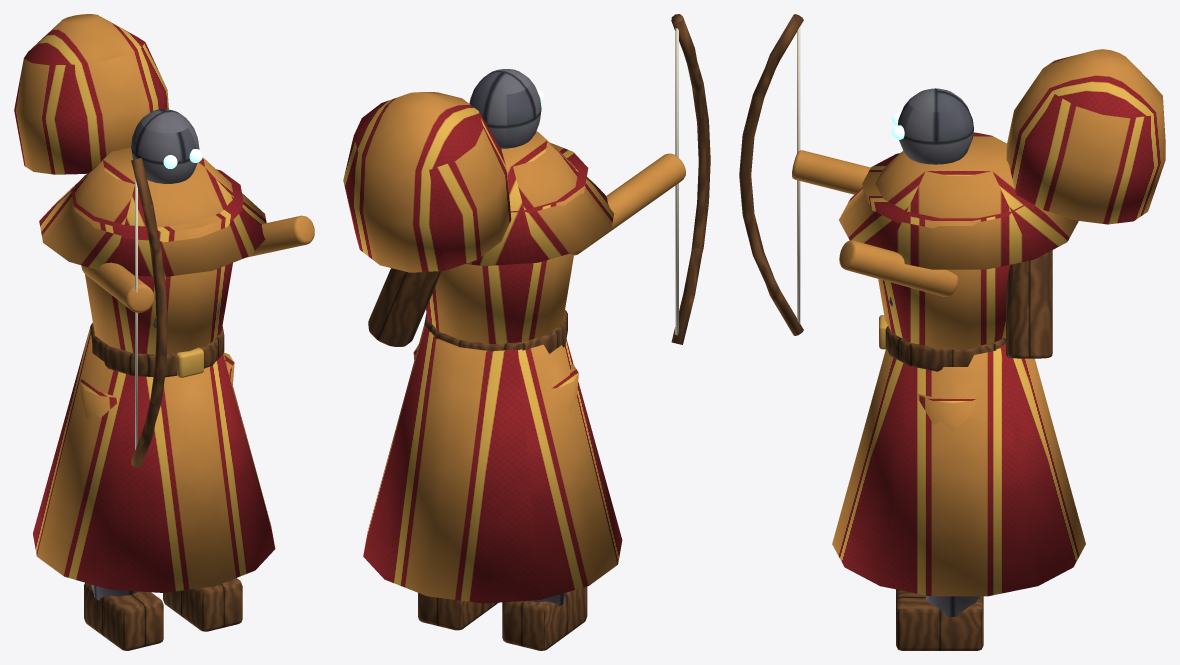
The model's file is bone_archer.glb.
3 renders of one model, left to right at view 1: azimuth 30°, elevation 25°; view 2: azimuth 150°, elevation 25°; view 3: azimuth 270°, elevation 25°, orthographic. The views are drawn at different scales.
Parts seen in each view (by area): view 1: CloakSkirt, DeepHood, ShoulderCapelet, CloakTorso, Boot, SkullFace, HeldBow, Boot.001, RangerBelt, BowArm, DrawArm, Thigh (+2 smaller); view 2: CloakSkirt, DeepHood, CloakTorso, ShoulderCapelet, SkullFace, HeldBow, Quiver, Boot, BowArm, Boot.001, RangerBelt, BowStr (+1 smaller); view 3: CloakSkirt, DeepHood, ShoulderCapelet, CloakTorso, SkullFace, Quiver, Boot.001, HeldBow, DrawArm, RangerBelt, BowArm, Thigh.001 (+2 smaller).
Part boxes in pixels (<box>): CloakSkirt: <box>33,327,275,592</box>; DeepHood: <box>14,14,168,174</box>; ShoulderCapelet: <box>39,147,266,276</box>; CloakTorso: <box>71,169,243,354</box>; Boot: <box>84,582,163,650</box>; SkullFace: <box>131,109,199,183</box>; HeldBow: <box>131,158,167,467</box>; Boot.001: <box>163,578,242,631</box>; RangerBelt: <box>90,323,224,377</box>; BowArm: <box>81,262,154,312</box>; DrawArm: <box>246,215,314,257</box>; Thigh: <box>80,379,119,418</box>; CloakSkirt: <box>363,323,622,603</box>; DeepHood: <box>343,92,511,272</box>; CloakTorso: <box>426,143,588,344</box>; ShoulderCapelet: <box>466,131,614,266</box>; SkullFace: <box>469,69,541,148</box>; HeldBow: <box>671,14,710,344</box>; Quiver: <box>368,268,441,346</box>; Boot: <box>502,586,587,650</box>; BowArm: <box>568,153,685,255</box>; Boot.001: <box>418,593,498,630</box>; RangerBelt: <box>424,310,567,353</box>; BowStr: <box>675,28,678,335</box>; CloakSkirt: <box>832,344,1085,596</box>; DeepHood: <box>1006,49,1165,224</box>; ShoulderCapelet: <box>839,132,1078,269</box>; CloakTorso: <box>862,153,1029,348</box>; SkullFace: <box>898,88,973,164</box>; Quiver: <box>1006,250,1052,358</box>; Boot.001: <box>896,590,983,650</box>; HeldBow: <box>739,14,803,335</box>; DrawArm: <box>839,240,958,296</box>; RangerBelt: <box>885,326,1005,371</box>; BowArm: <box>792,150,870,194</box>; Thigh.001: <box>918,394,977,431</box>.
Bounding box in the file's own units: 0.7604 × 1.88 × 1.28.
8 materials, 6 textured.
